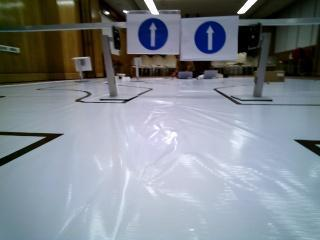straight: (181, 20, 238, 60), (127, 14, 181, 52)
